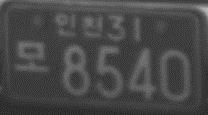0: (159, 49, 191, 102)
1: (129, 16, 146, 40)
3: (107, 14, 127, 41)
4: (126, 46, 157, 100)
5: (94, 45, 124, 97)
8: (61, 44, 91, 95)
모: (15, 40, 49, 73)
인천_O: (54, 12, 104, 38)
